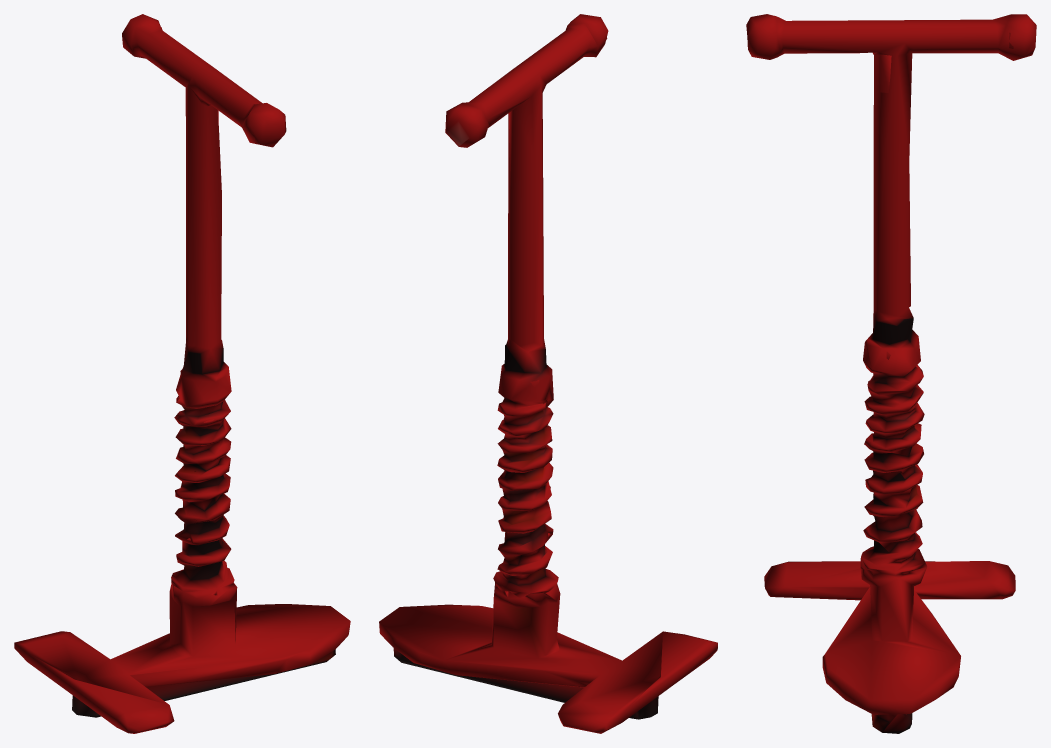
The model's file is gen3d-pogo-stick-lod1.glb.
3 views of the same model, side by side, from view 1: azimuth 30°, elevation 25°; view 2: azimuth 150°, elevation 25°; view 3: azimuth 270°, elevation 25° (orthographic). The views are drawn at different scales.
Visible parts, largest first — view 1: part_0; view 2: part_0; view 3: part_0.
Boxes of the visible parts, x1,y1,x2,y2 form: part_0: (14,14,350,733); part_0: (379,14,717,733); part_0: (746,14,1036,733).
Size of the model in its own units: 0.4597 by 0.9991 by 0.4031.
